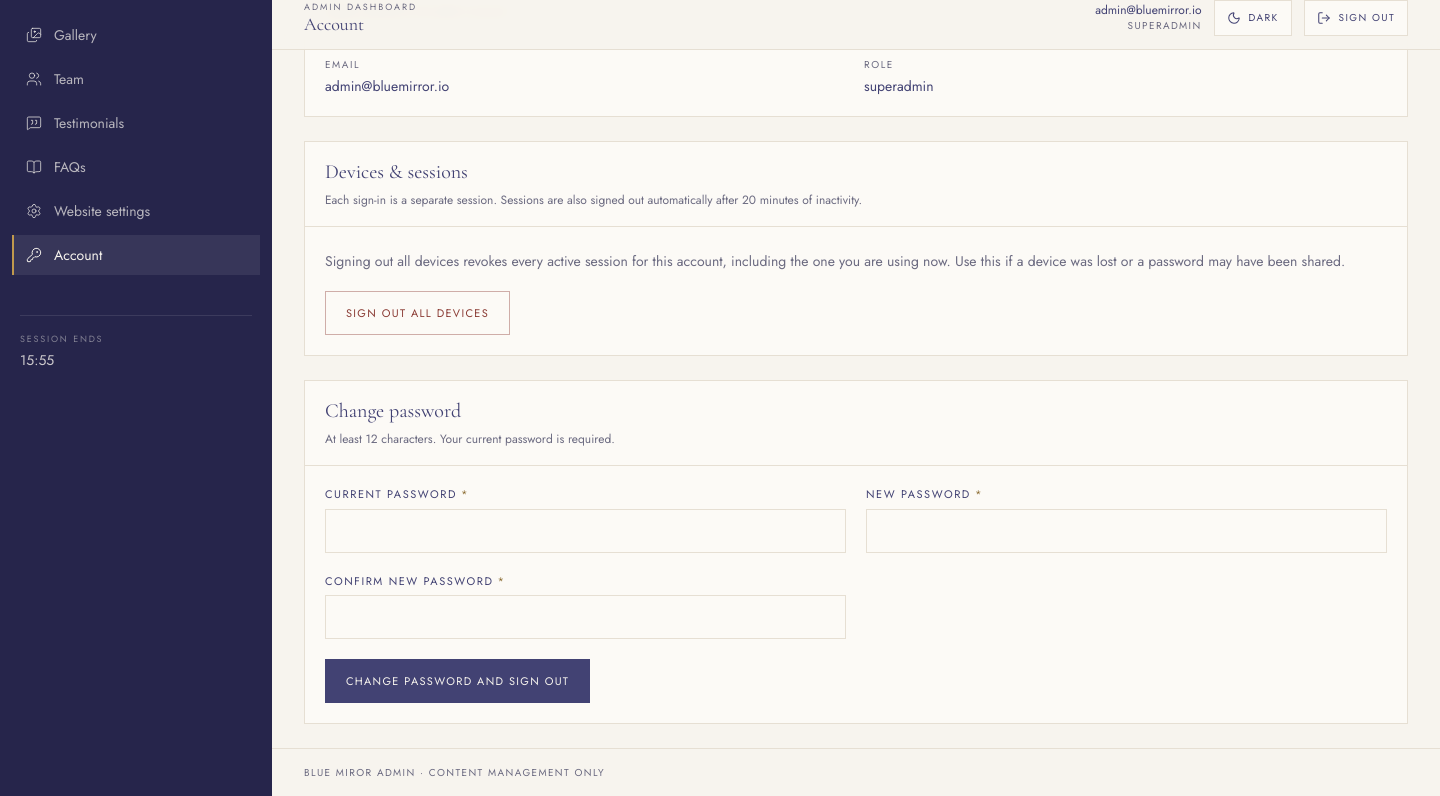
Test: admin account password change › rejects reusing the current password
(page scrolled)
In the password field labelled "Current password*": (586, 531) [325,509,846,553], type "correct-horse-battery"
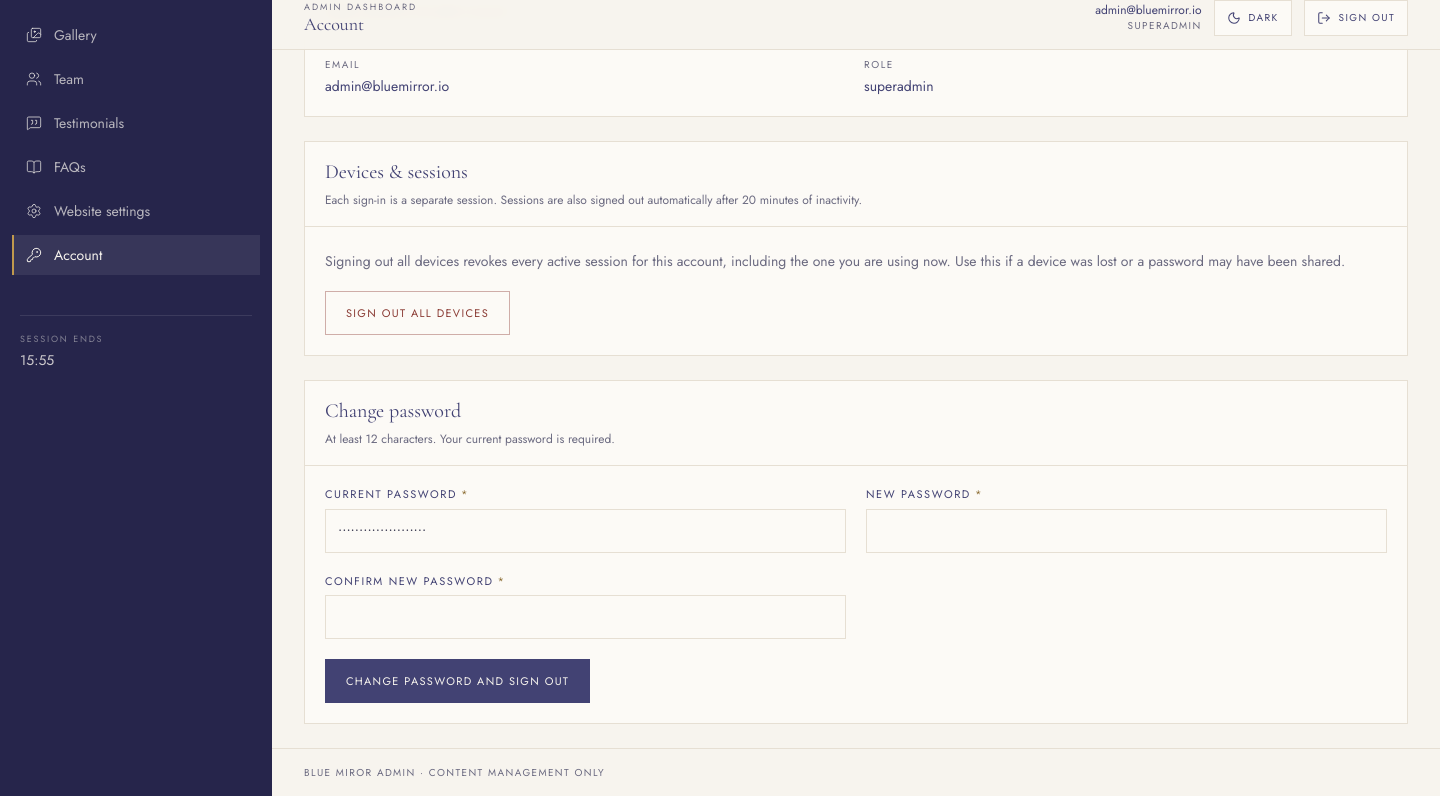
In the password field labelled "New password*": (1126, 531) [866,509,1387,553], type "correct-horse-battery"
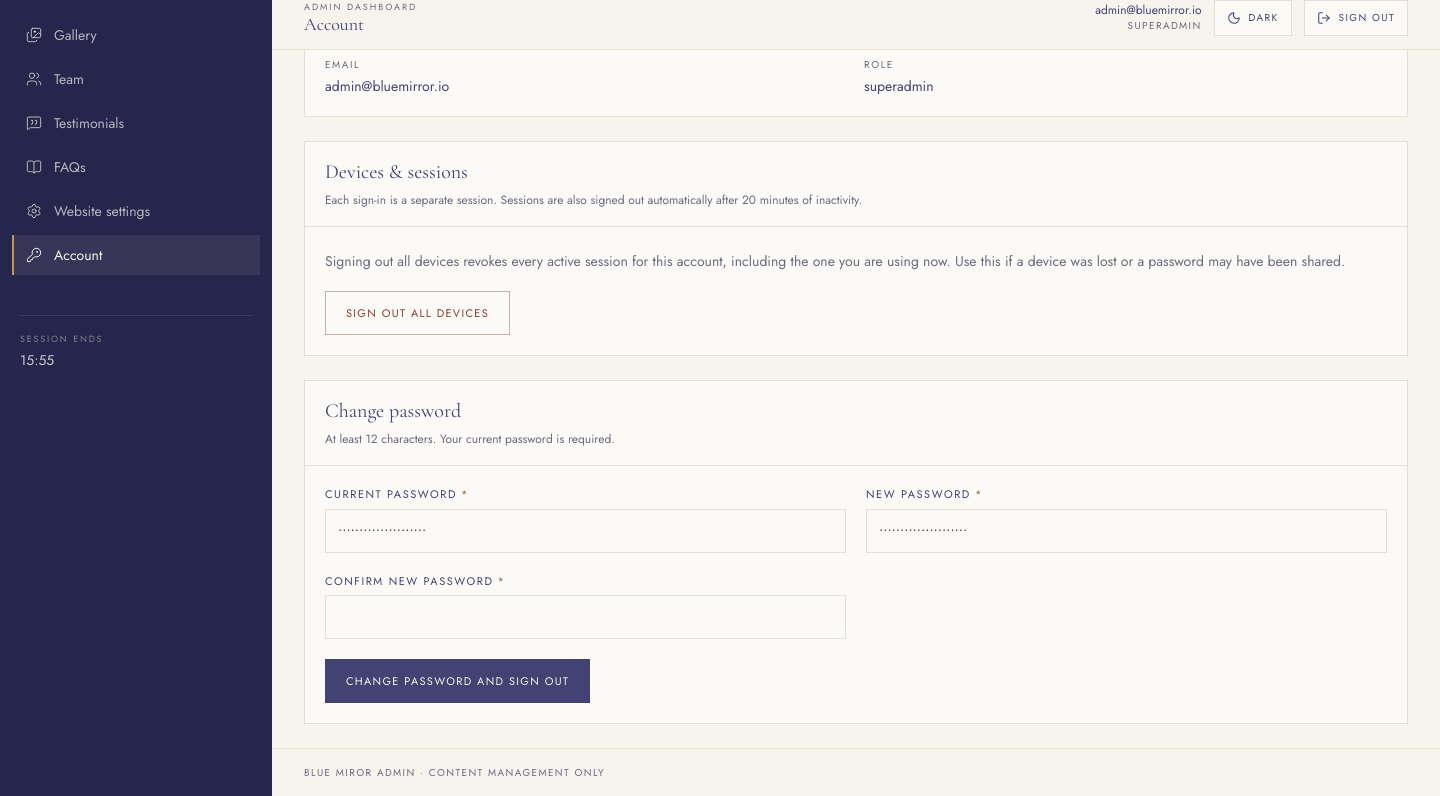
In the password field labelled "Confirm new password*": (586, 617) [325,595,846,639], type "correct-horse-battery"
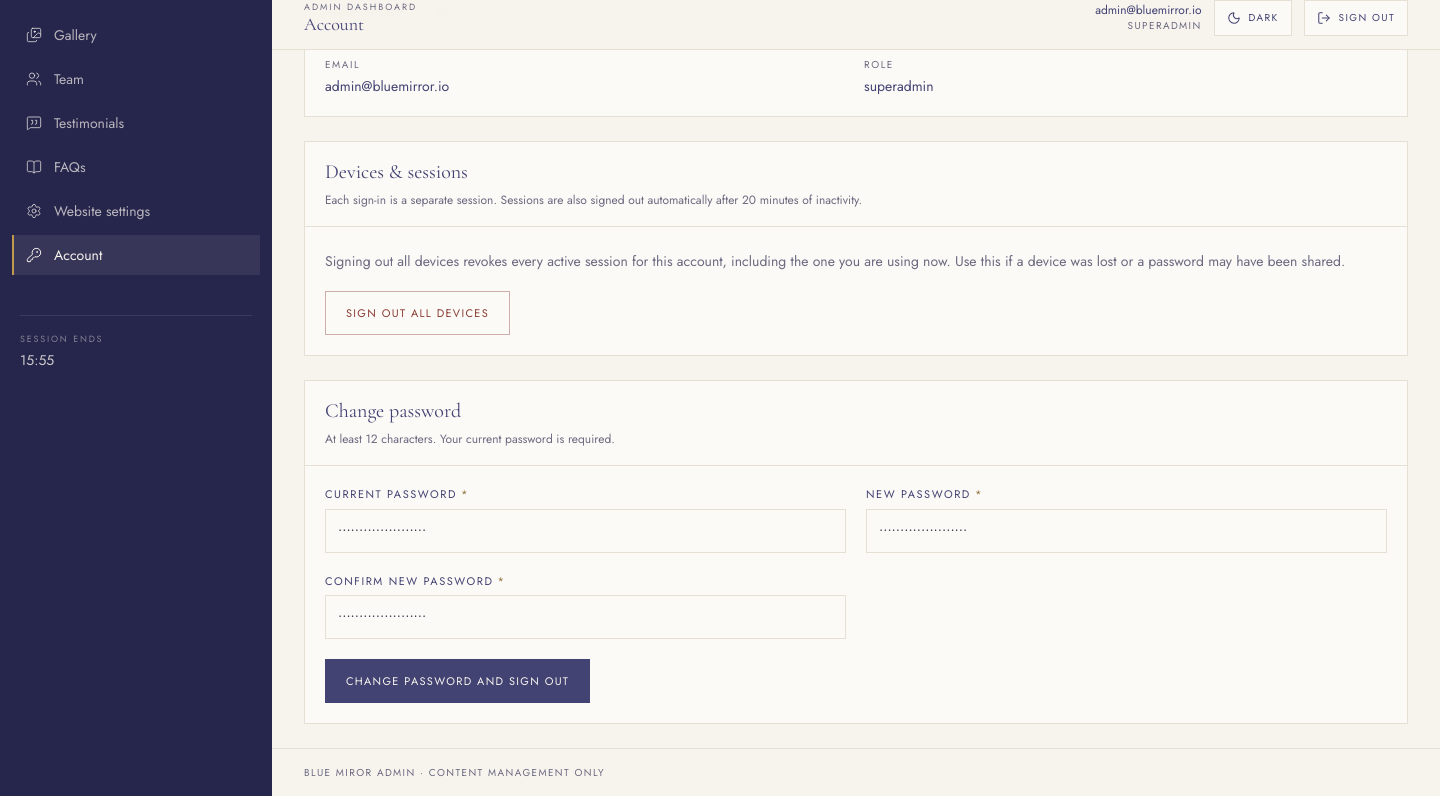
Click the button "Change password and sign out": (458, 681) [325,659,590,703]
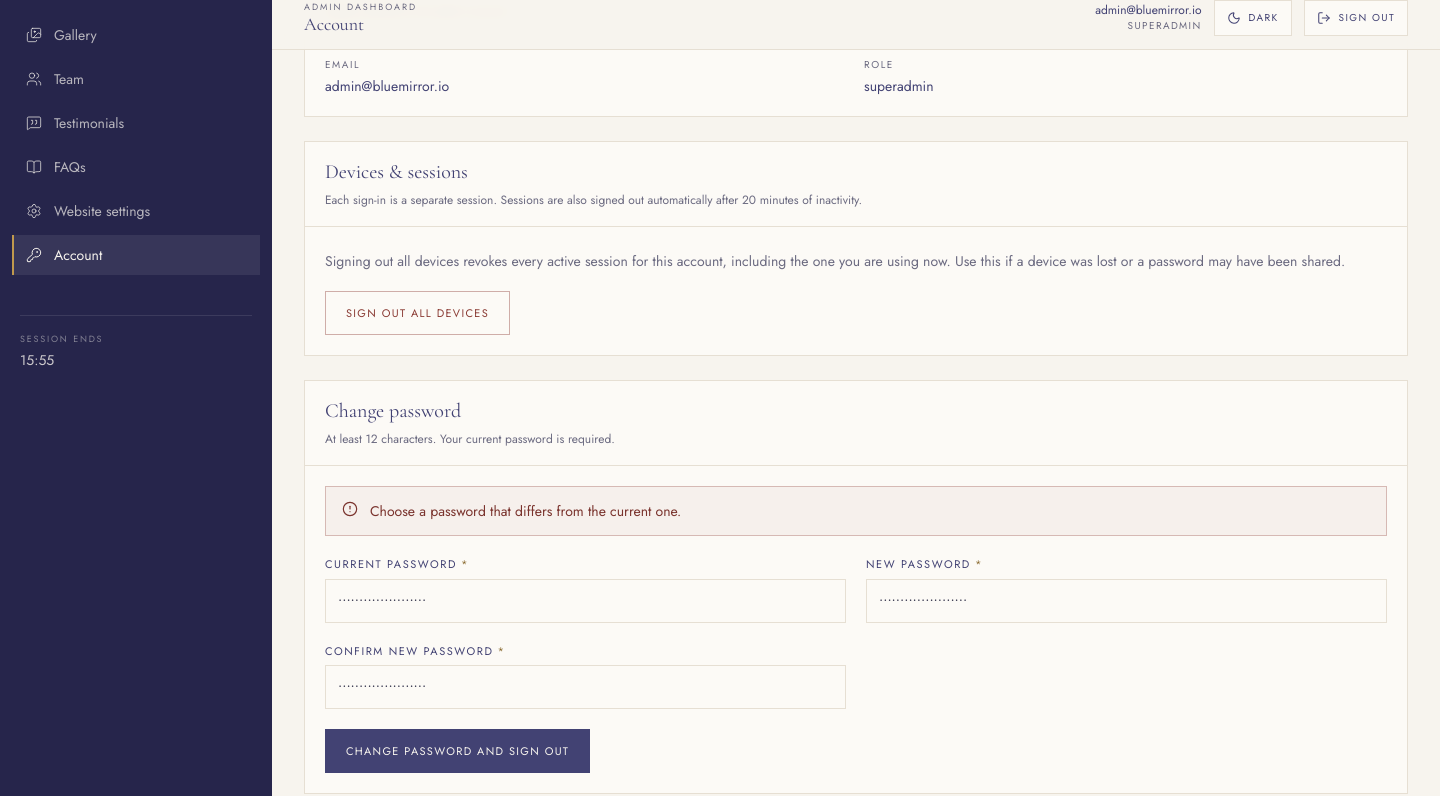
expect the text "Choose a password that differs from the current one." is shown: met, box [370,499,681,523]
